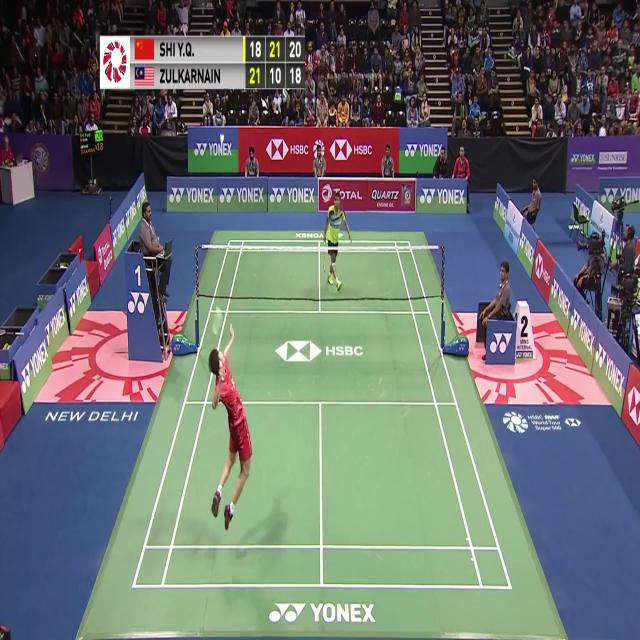Shuttlecock: (219, 136, 225, 147)
